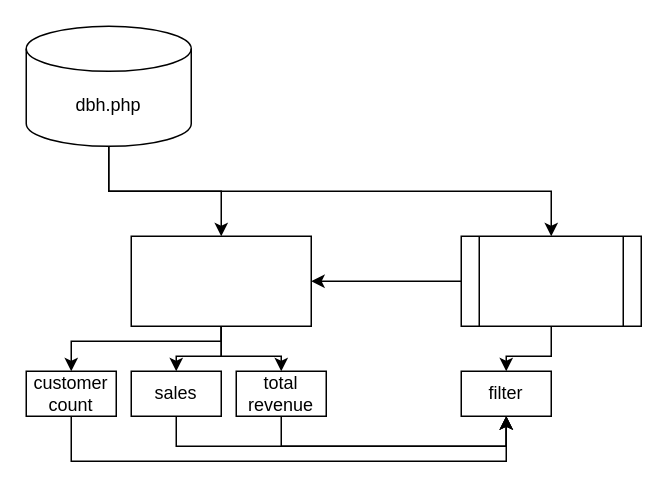
Some shapes in this 668 by 500 pixel diagram are drawn without their labels. The centre of each missing label's shape, as x and y in pixels:
"dashboard.cntrl.php" goes at [550,280].
"dashboard.view.php" goes at [220,280].
